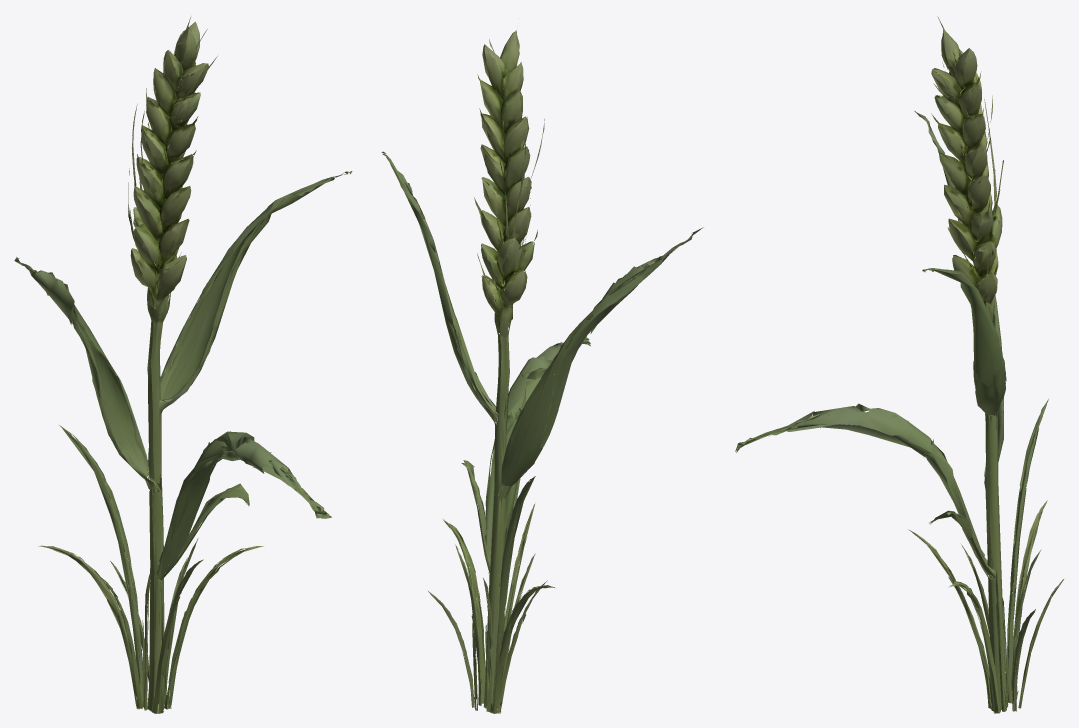
Rendered from PredictionWheat_LOD2.glb.
3 renders of one model, left to right at view 1: azimuth 30°, elevation 25°; view 2: azimuth 150°, elevation 25°; view 3: azimuth 270°, elevation 25°, orthographic. The views are drawn at different scales.
Parts seen in each view (by area): view 1: Head, Stemleaf1, Stemleaf2, Stemleaf3, Stem, Groundleaf7, Groundleaf5, Groundleaf1, Groundleaf6; view 2: Head, Stemleaf3, Stem, Groundleaf7, Stemleaf2, Stemleaf1, Groundleaf5, Groundleaf1, Groundleaf4, Groundleaf3; view 3: Head, Stemleaf2, Stemleaf1, Stem, Groundleaf7, Groundleaf5, Groundleaf1, Stemleaf3, Groundleaf4, Groundleaf3.
Boxes of the visible parts, x1,y1,x2,y2 form: Head: [128, 16, 217, 323]; Stemleaf1: [159, 171, 352, 411]; Stemleaf2: [157, 431, 331, 579]; Stemleaf3: [14, 257, 160, 491]; Stem: [146, 318, 168, 713]; Groundleaf7: [38, 425, 147, 709]; Groundleaf5: [164, 546, 263, 709]; Groundleaf1: [152, 559, 203, 713]; Groundleaf6: [142, 574, 150, 710]; Head: [474, 30, 544, 337]; Stemleaf3: [499, 227, 703, 498]; Stem: [483, 334, 509, 707]; Groundleaf7: [483, 476, 554, 713]; Stemleaf2: [461, 337, 590, 577]; Stemleaf1: [381, 151, 498, 423]; Groundleaf5: [443, 519, 486, 703]; Groundleaf1: [503, 503, 535, 633]; Groundleaf4: [455, 544, 481, 705]; Groundleaf3: [427, 590, 474, 707]; Head: [931, 16, 1003, 321]; Stemleaf2: [735, 403, 996, 578]; Stemleaf1: [922, 268, 1006, 415]; Stem: [984, 411, 1008, 709]; Groundleaf7: [1002, 399, 1048, 703]; Groundleaf5: [949, 581, 1000, 713]; Groundleaf1: [909, 530, 990, 708]; Stemleaf3: [914, 111, 1003, 476]; Groundleaf4: [995, 569, 1006, 711]; Groundleaf3: [1012, 609, 1035, 711].
Size of the model in its own units: 0.5754 by 1.16 by 0.4982.
1 material, 1 textured.
